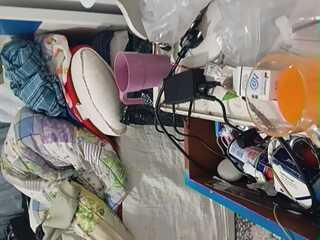cup: (246, 53, 319, 144), (114, 52, 170, 104)
